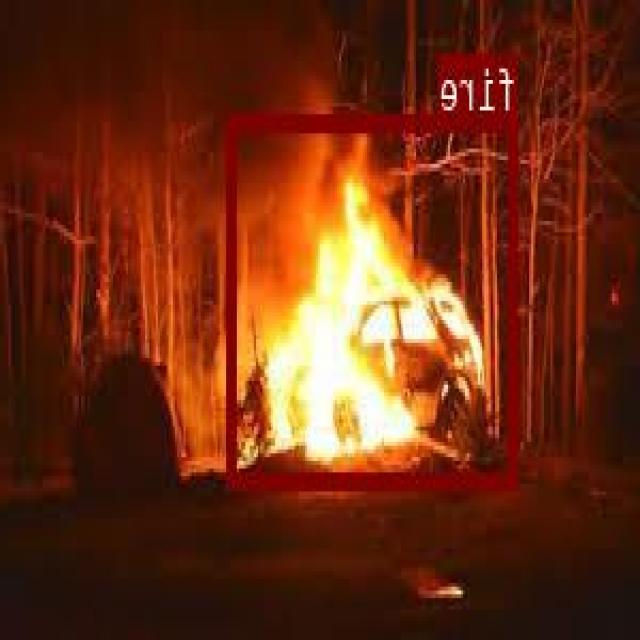fire: (228, 114, 519, 487)
